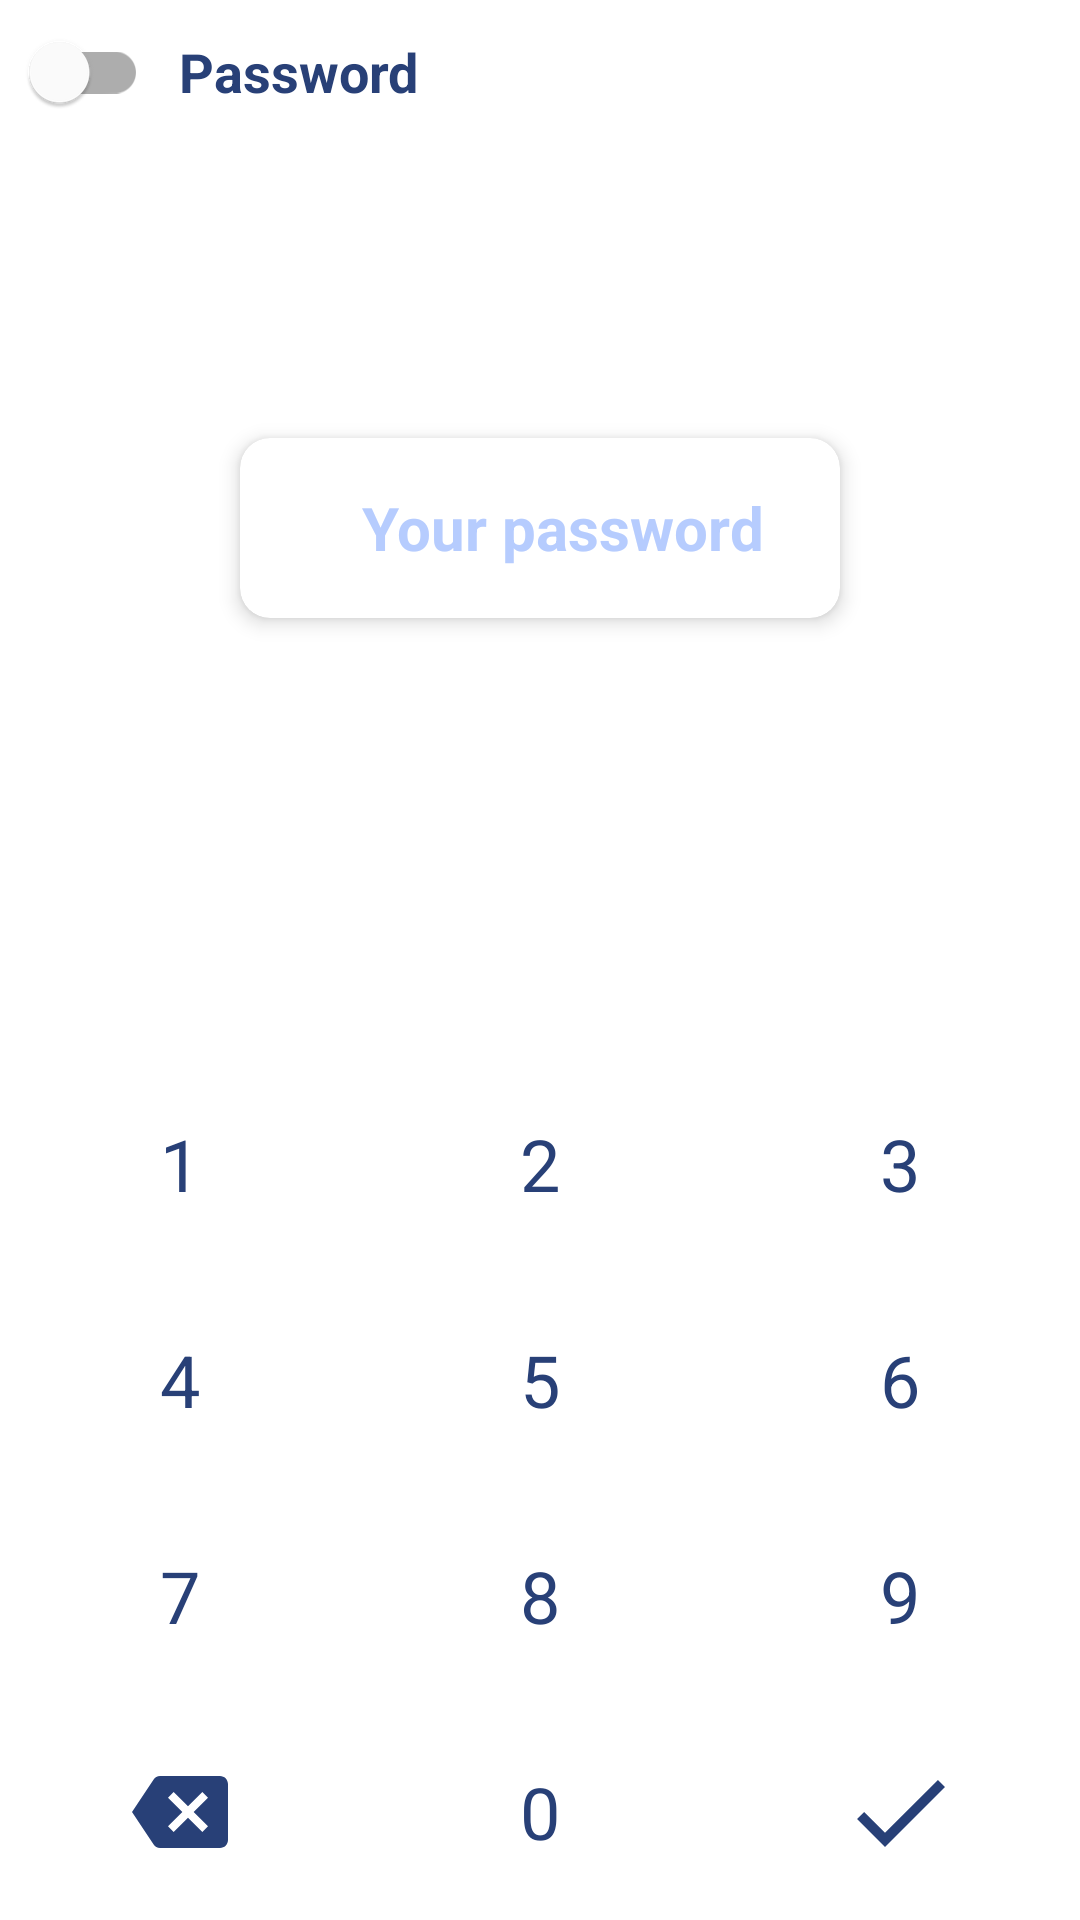

Icons on this 1080*1920 Android screen, each with its box as (x1, y1, x2, y2):
backspace: (132, 1776, 228, 1848)
check: (857, 1780, 945, 1847)
